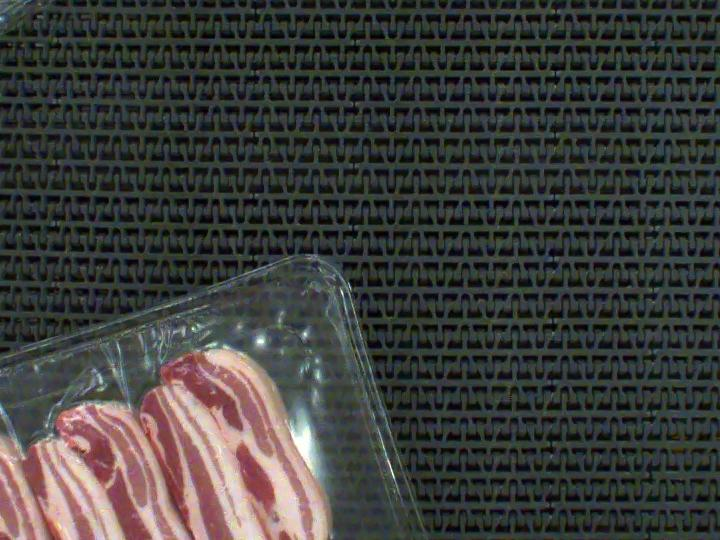unsealed: (0, 315, 326, 540)
